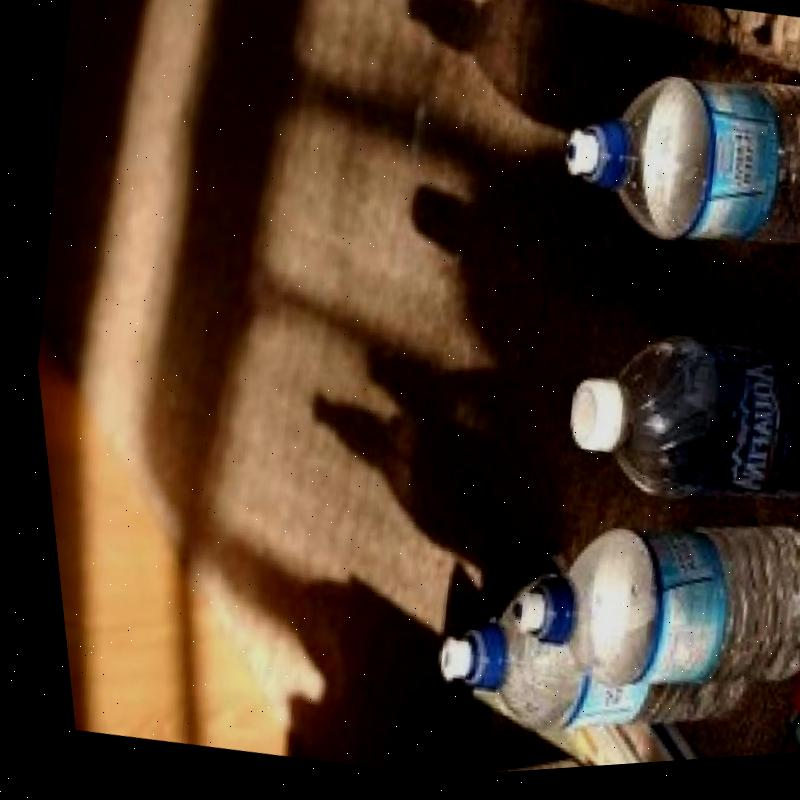botella: (477, 482, 800, 731), (409, 567, 761, 769), (532, 44, 800, 288), (543, 316, 800, 538)
